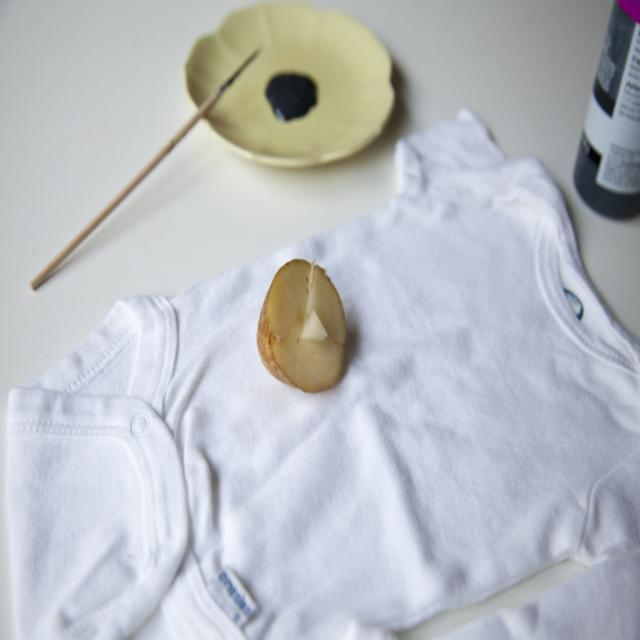Potato: (257, 259, 352, 393)
